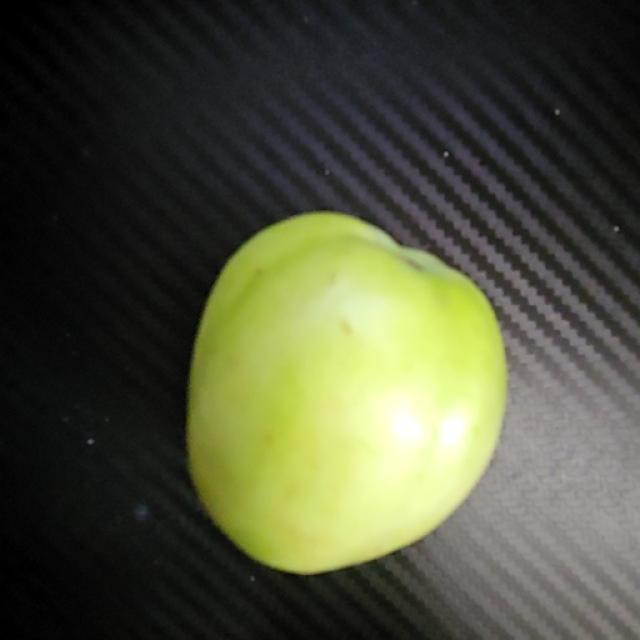Red: (183, 208, 510, 576)
